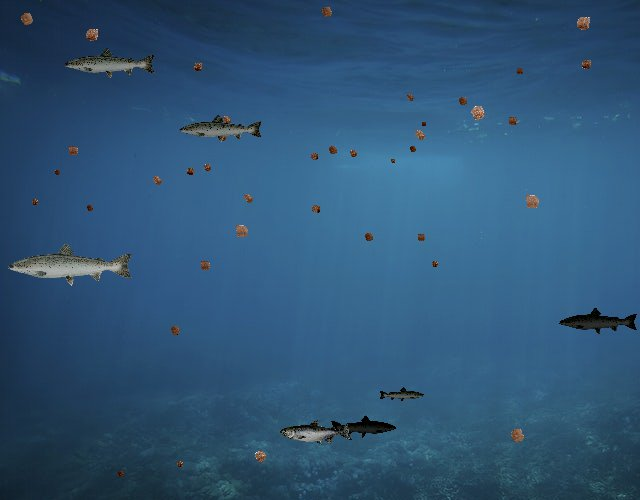Fish: (6, 241, 135, 287), (64, 47, 158, 80), (178, 113, 264, 144), (559, 307, 640, 336), (280, 419, 353, 445), (330, 415, 398, 439), (378, 386, 425, 403)
Pellet: (569, 10, 597, 38), (248, 444, 273, 469), (453, 92, 472, 111), (345, 145, 362, 162), (172, 457, 187, 472), (114, 467, 128, 481), (428, 257, 442, 271), (28, 195, 42, 209)
